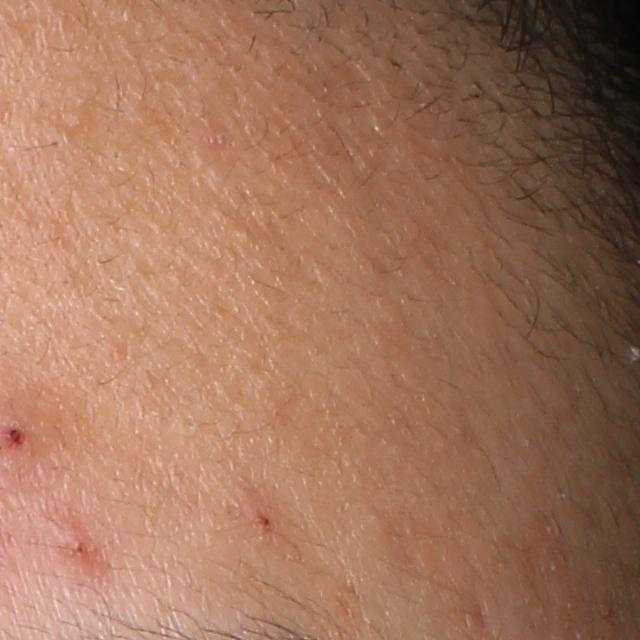papule: (245, 483, 284, 542), (60, 527, 109, 570)
